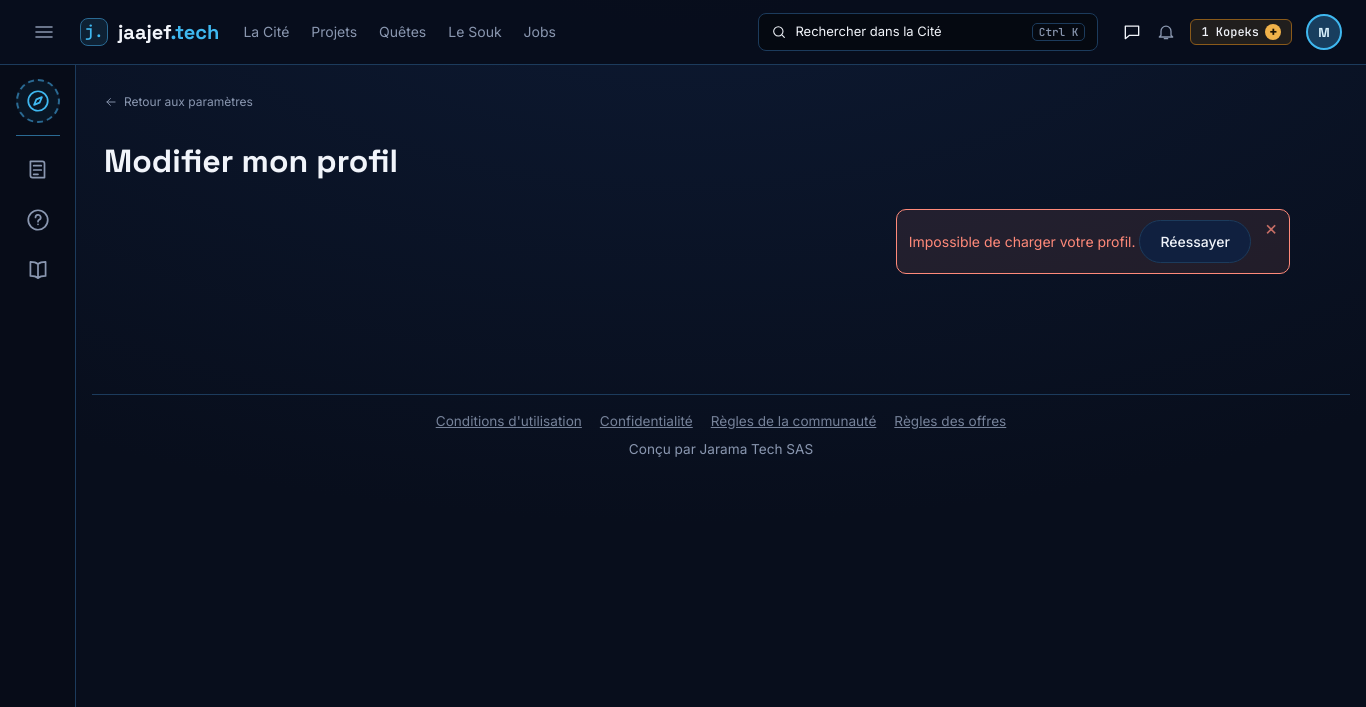
Test: Edit profile › offers a retry when loading fails
Click the button "Réessayer".
click(1195, 242)  # box [1139, 220, 1251, 263]
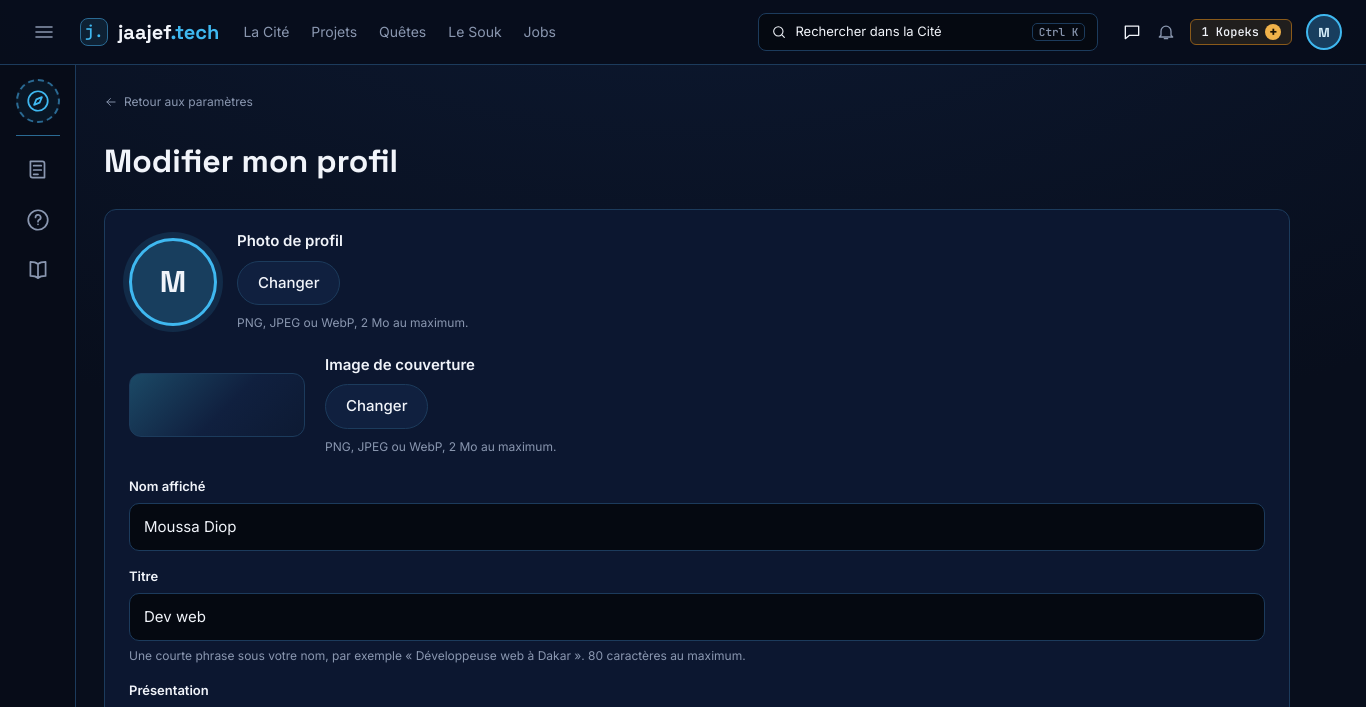
Expected: the field labelled "Nom affiché" is shown, [129, 502, 1265, 551]
